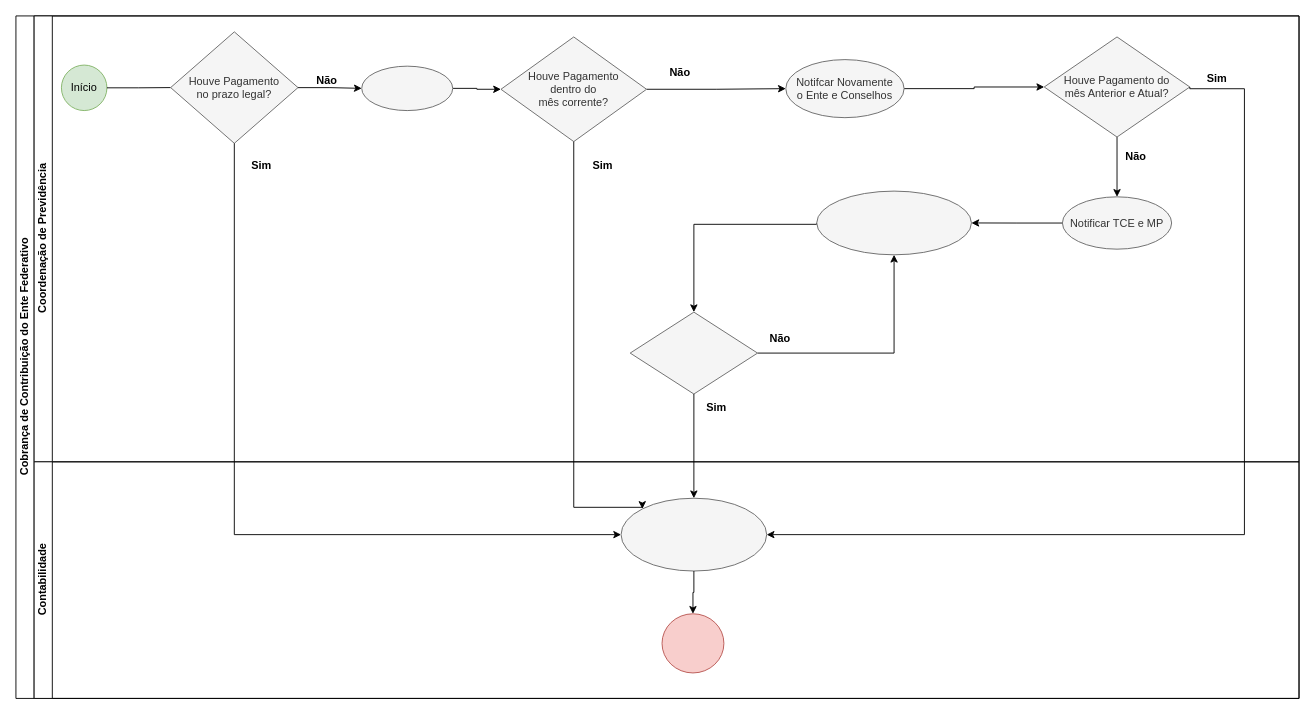
Some shapes in this 1315 by 714 pixel diagram are drawn without their labels. Each missing label, with the centre of its shape:
"Arquivo" goes at (x=692, y=643).
"Monitorar Processo de Cobrança" goes at (x=893, y=222).
"Oficiar Ente e Conselhos" goes at (x=407, y=88).
"Pagto Realizado?" goes at (x=693, y=352).
"Realizar Registro Contabil" goes at (x=693, y=534).
